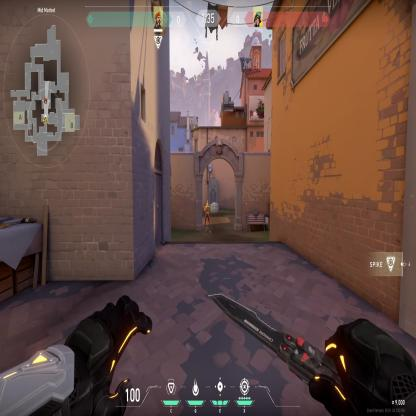enemy: (202, 198, 212, 234)
